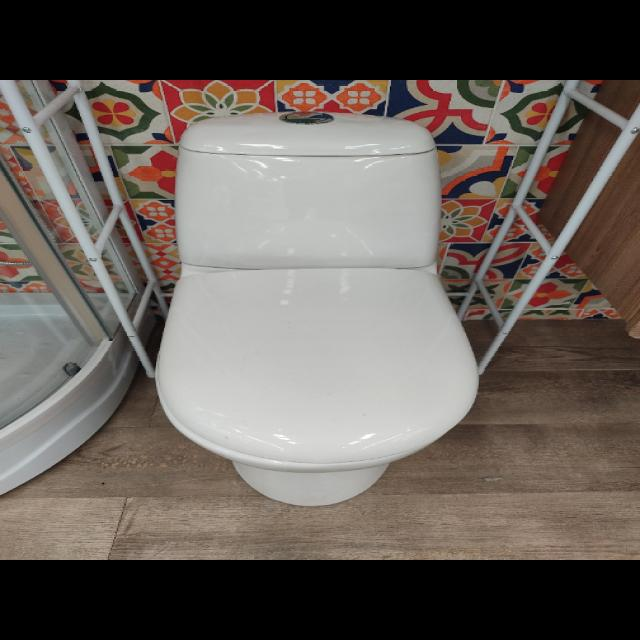toilet: (152, 110, 480, 506)
